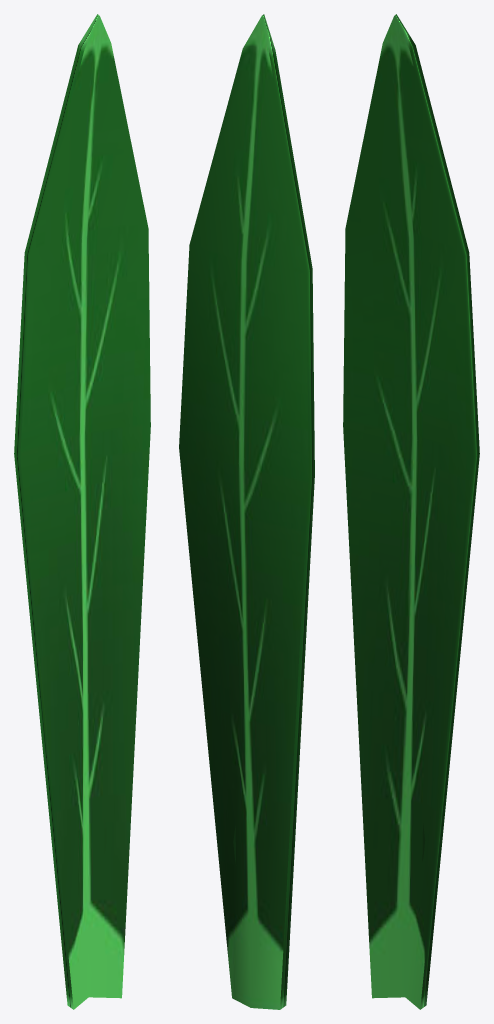
The model's file is leaf.fbx.
3 views of the same model, side by side, from view 1: azimuth 30°, elevation 25°; view 2: azimuth 150°, elevation 25°; view 3: azimuth 330°, elevation 25° (orthographic).
Parts seen in each view (by area): view 1: pCube1; view 2: pCube1; view 3: pCube1.
Part boxes in pixels (bbox=[...]): pCube1: bbox=[14, 14, 150, 1009]; pCube1: bbox=[179, 14, 314, 1009]; pCube1: bbox=[343, 14, 479, 1009].
Bounding box in the file's own units: 0.7504 × 5.44 × 0.2139.
